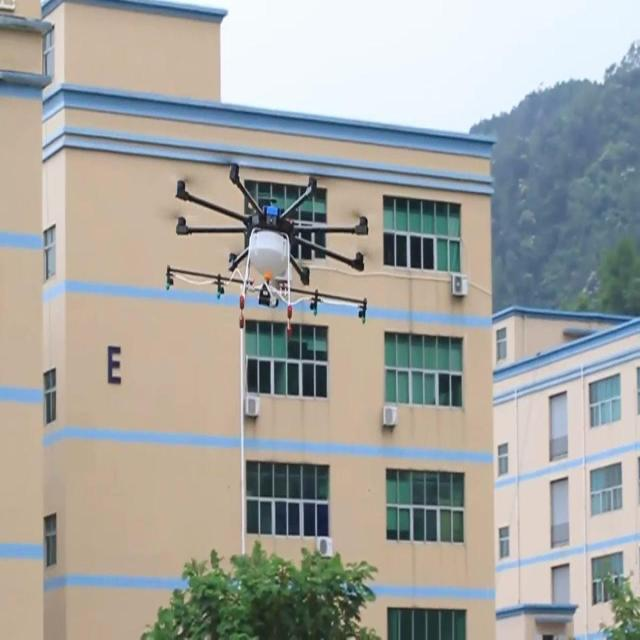drone: (164, 160, 368, 334)
